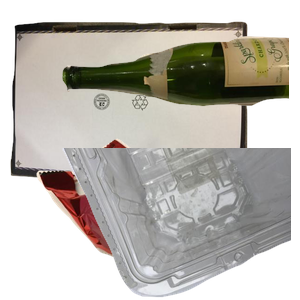cardboard: (10, 19, 250, 199)
glass: (60, 34, 300, 133)
plastic: (60, 148, 300, 300)
trash: (34, 136, 253, 300)
